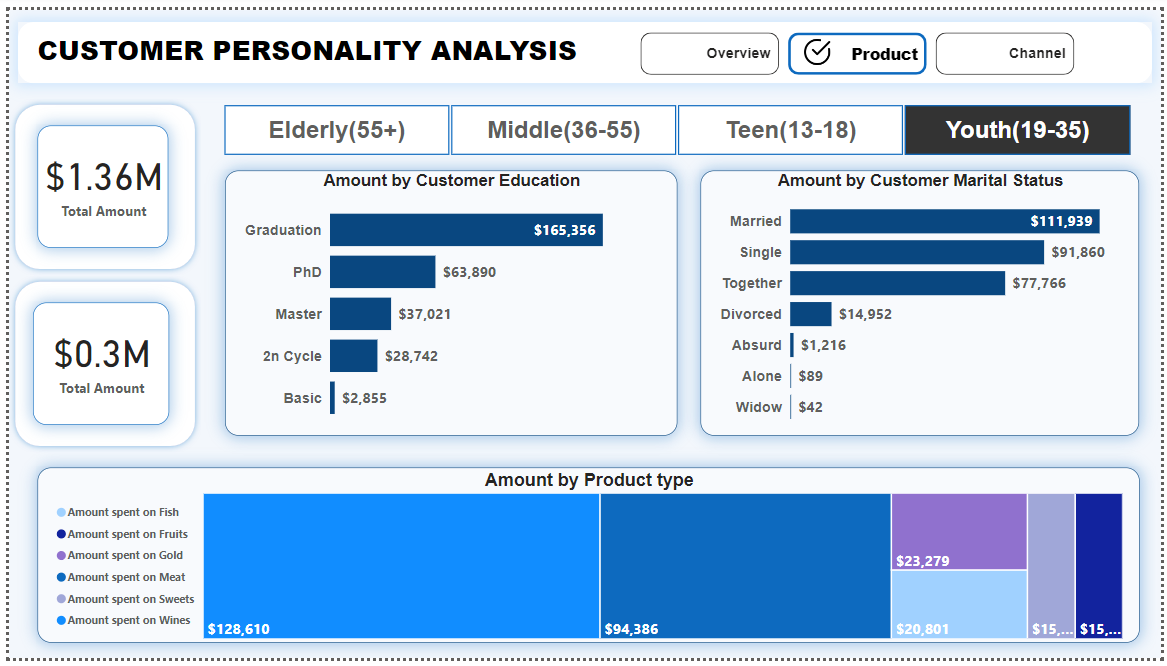

This screenshot's page, from the dashboard's own definition file:
{"tool":"powerbi","page":{"name":"Product","canvas":[1280,720],"ordinal":1},"visuals":[{"type":"shape","box":[10,14,1260,68],"z":0},{"type":"textbox","title":"CUSTOMER PERSONALITY ANALYSIS","box":[26,24,614,48],"z":1000},{"type":"pageNavigator","box":[701.1,24.6,483.8,47.2],"z":2000},{"type":"image","box":[866,24,62,46],"z":3000},{"type":"shape","box":[0,98.3,213.5,196.5],"z":4000},{"type":"card","fields":{"Values":["Task-3-Excel Data Set.Total Amount"]},"box":[32.1,128.5,145.5,136.1],"z":5000},{"type":"treemap","title":"Amount by Product type","fields":{"Values":["Sum(Task-3-Excel Data Set.Amount_on_fish)","Sum(Task-3-Excel Data Set.Amount_on_Fruits)","Sum(Task-3-Excel Data Set.Amount_on_Gold)","Sum(Task-3-Excel Data Set.Amount_on_meat)","Sum(Task-3-Excel Data Set.Amount_on_Sweets)","Sum(Task-3-Excel Data Set.Amount_on_Wines)"]},"box":[32.1,508.4,1224.6,194.6],"z":6000},{"type":"slicer","fields":{"Values":["Task-3-Excel Data Set.Age (groups)"]},"box":[213.5,98.3,1056.4,69.9],"z":7000},{"type":"shape","box":[0,294.8,213.5,196.5],"z":8000},{"type":"card","fields":{"Values":["Task-3-Excel Data Set.Total Amount"]},"box":[26.5,325,151.2,136.1],"z":9000},{"type":"barChart","title":"Amount by Customer Education","fields":{"Category":["Task-3-Excel Data Set.Education"],"Y":["Task-3-Excel Data Set.Total Amount"]},"box":[240,177.6,502.7,294.8],"z":10000},{"type":"barChart","title":"Amount by Customer Marital Status","fields":{"Y":["Task-3-Excel Data Set.Total Amount"],"Category":["Task-3-Excel Data Set.Marital_Status"]},"box":[769.1,177.6,487.6,294.8],"z":11000}]}

Visuals, with their boxes in screenshot pixels (x1, y1, x2, y2), scaled from the page's 1280x720 canvas onto the 1167x666 screenshot:
shape: <bbox>9, 13, 1158, 76</bbox>
"CUSTOMER PERSONALITY ANALYSIS" textbox: <bbox>24, 22, 584, 67</bbox>
pageNavigator: <bbox>639, 23, 1080, 66</bbox>
image: <bbox>790, 22, 846, 65</bbox>
shape: <bbox>0, 91, 195, 273</bbox>
card - Task-3-Excel Data Set.Total Amount: <bbox>29, 119, 162, 245</bbox>
"Amount by Product type" treemap: <bbox>29, 470, 1146, 650</bbox>
slicer - Task-3-Excel Data Set.Age (groups): <bbox>195, 91, 1158, 156</bbox>
shape: <bbox>0, 273, 195, 454</bbox>
card - Task-3-Excel Data Set.Total Amount: <bbox>24, 301, 162, 427</bbox>
"Amount by Customer Education" barChart: <bbox>219, 164, 677, 437</bbox>
"Amount by Customer Marital Status" barChart: <bbox>701, 164, 1146, 437</bbox>
